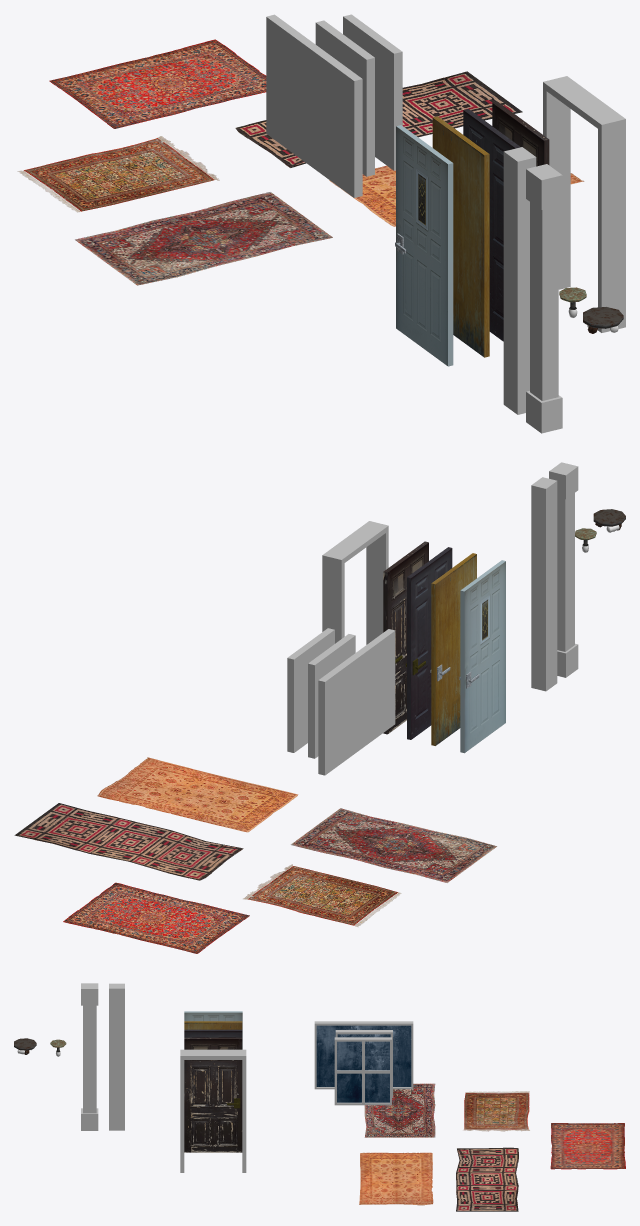
File: Props.fbx
3 views of the same model, one above another, from view 1: azimuth 30°, elevation 25°; view 2: azimuth 150°, elevation 25°; view 3: azimuth 270°, elevation 25° (orthographic). The views are drawn at different scales.
Parts seen in each view (by area): view 1: Plane.002, Rug4, Cube, Rug5, Plane.007, Cube.004, Plane.004, Rug2, Plane.003, Rug1, Cube.007, Plane.001 (+4 smaller); view 2: Rug1, Plane.002, Rug3, Rug4, Cube, Rug5, Plane.003, Cube.004, Rug2, Plane.007, Cube.007, Plane.004 (+3 smaller); view 3: Cube.010, Plane.001, Rug1, Rug3, Rug5, Plane.002, Rug4, Rug2, Plane.003, Plane.004, Plane.007, Cube (+3 smaller).
Part boxes in pixels (x1,y1,x2,y2): Plane.002: [266, 14, 362, 197]; Rug4: [75, 192, 332, 285]; Cube: [396, 125, 453, 366]; Rug5: [49, 39, 266, 128]; Plane.007: [543, 76, 625, 332]; Cube.004: [432, 116, 489, 357]; Plane.004: [526, 164, 562, 433]; Rug2: [17, 136, 219, 212]; Plane.003: [503, 147, 536, 414]; Rug1: [235, 71, 522, 168]; Cube.007: [463, 109, 519, 341]; Plane.001: [343, 14, 402, 170]; Rug1: [14, 803, 243, 880]; Plane.002: [318, 629, 395, 775]; Rug3: [97, 757, 298, 832]; Rug4: [290, 808, 496, 882]; Cube: [460, 560, 505, 753]; Rug5: [63, 882, 249, 953]; Plane.003: [531, 477, 557, 691]; Cube.004: [431, 553, 476, 745]; Rug2: [243, 864, 401, 927]; Plane.007: [322, 521, 388, 644]; Cube.007: [407, 547, 452, 739]; Plane.004: [549, 462, 578, 677]; Cube.010: [184, 1037, 242, 1152]; Plane.001: [334, 1037, 391, 1105]; Rug1: [456, 1147, 518, 1211]; Rug3: [359, 1152, 433, 1205]; Rug5: [550, 1123, 625, 1169]; Plane.002: [314, 1021, 413, 1089]; Rug4: [364, 1083, 435, 1137]; Rug2: [463, 1091, 529, 1131]; Plane.003: [109, 983, 124, 1130]; Plane.004: [81, 983, 98, 1130]; Plane.007: [180, 1049, 246, 1172]; Cube: [184, 1011, 242, 1049].
Bounding box in the file's own units: 1161 × 603 × 2348.
